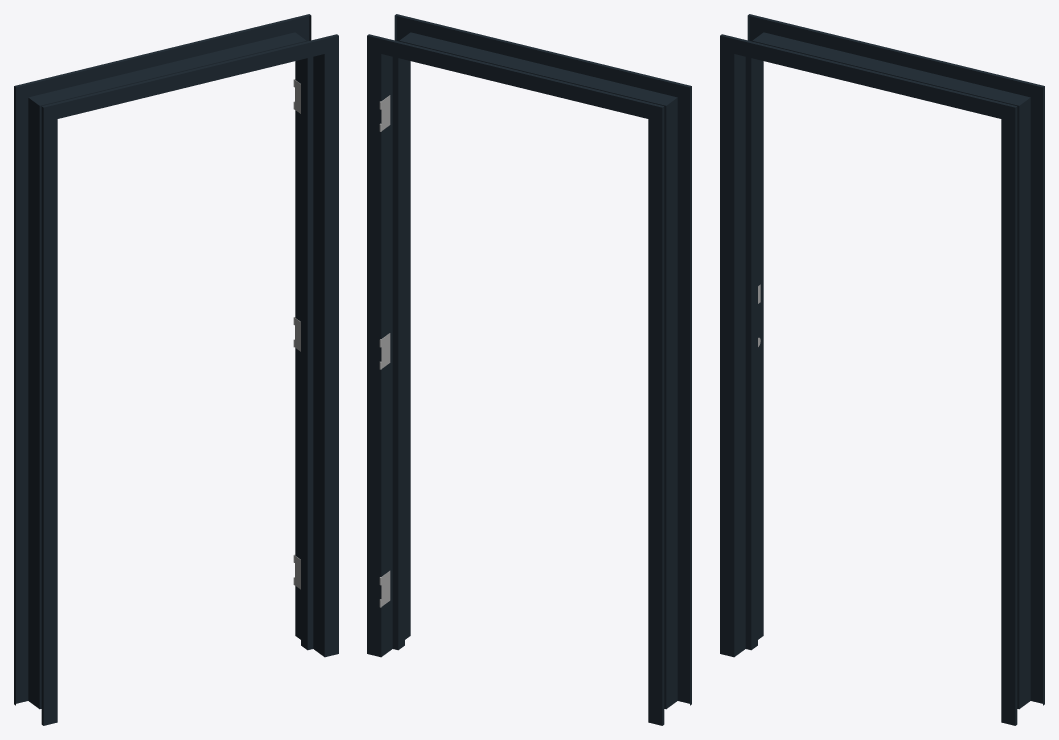
The model's file is sgc_door_frame_single_a.obj.
The picture shows the model from 3 angles, left to right: view 1: azimuth 30°, elevation 25°; view 2: azimuth 150°, elevation 25°; view 3: azimuth 330°, elevation 25°; orthographic projection.
Parts seen in each view (by area): view 1: Door_Frame_A; view 2: Door_Frame_A; view 3: Door_Frame_A.
Boxes of the visible parts, left/top/right/bottom form: Door_Frame_A: left=14, top=14, right=338, bottom=725; Door_Frame_A: left=367, top=14, right=691, bottom=725; Door_Frame_A: left=720, top=14, right=1044, bottom=725.
Size of the model in its own units: 15.85 by 31.7 by 2.83.
